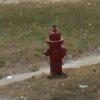Hydrant: (39, 17, 72, 81)
